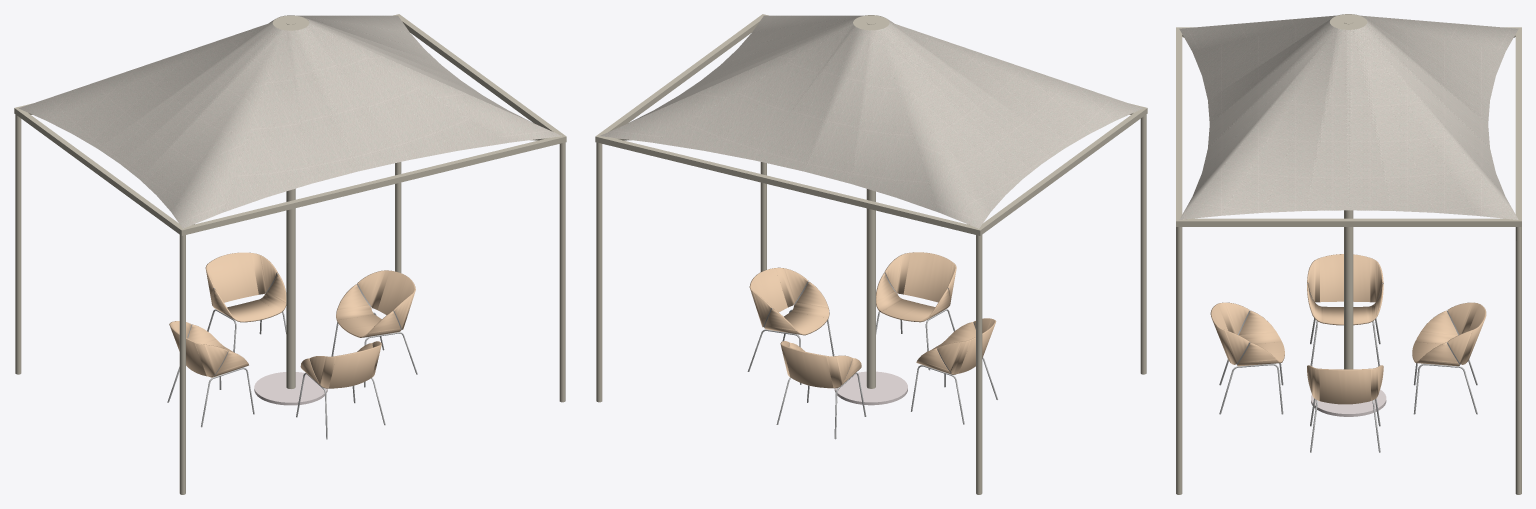
The model's file is UMBRELLA 5.glb.
3 renders of one model, left to right at view 1: azimuth 30°, elevation 25°; view 2: azimuth 150°, elevation 25°; view 3: azimuth 270°, elevation 25°, orthographic. The views are drawn at different scales.
Visible parts, largest first — view 1: CANOPY, POLES, CHAIR BACKREST, CHAIR LEGS; view 2: CANOPY, POLES, CHAIR BACKREST, CHAIR LEGS; view 3: CANOPY, CHAIR BACKREST, POLES, CHAIR LEGS.
Part boxes in pixels (<box>): CANOPY: <box>19,15,561,228</box>; POLES: <box>14,14,566,494</box>; CHAIR BACKREST: <box>169,252,415,388</box>; CHAIR LEGS: <box>167,309,417,439</box>; CANOPY: <box>600,15,1142,228</box>; POLES: <box>595,14,1147,494</box>; CHAIR BACKREST: <box>749,252,996,388</box>; CHAIR LEGS: <box>747,309,997,439</box>; CANOPY: <box>1179,14,1518,219</box>; CHAIR BACKREST: <box>1210,254,1486,404</box>; POLES: <box>1176,14,1521,494</box>; CHAIR LEGS: <box>1219,318,1477,452</box>.
Size of the model in its own units: 3.71 by 3.38 by 2.79.
Materials: 8 (4 with a texture image).
